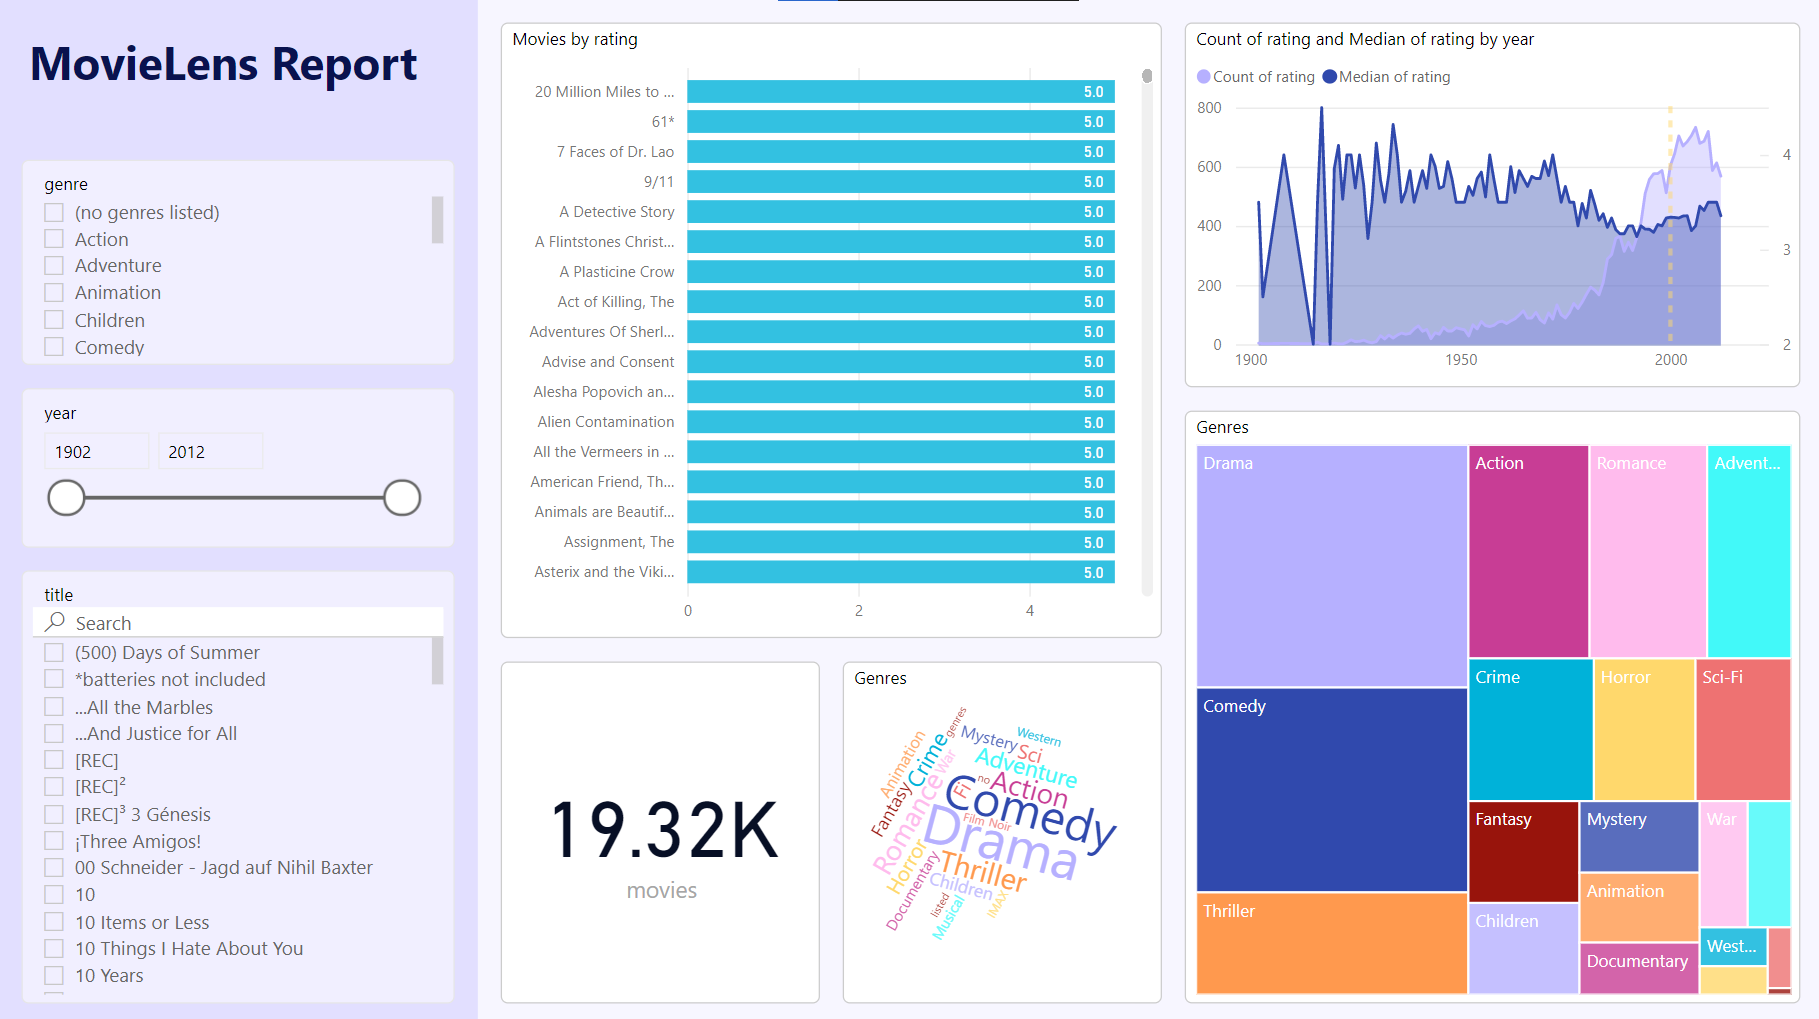

What the dashboard file says about the page in this screenshot:
{"tool":"powerbi","page":{"name":"Page 1","canvas":[1280,720],"ordinal":0},"visuals":[{"type":"shape","box":[0,0,336,720],"z":0},{"type":"treemap","title":"Genres","fields":{"Group":["movies.genre"],"Values":["movies.ratingId"]},"box":[832,288,432,416],"z":1000},{"type":"clusteredBarChart","title":"Movies by rating","fields":{"Category":["movies.title"],"Y":["movies.rating"]},"box":[352,16,464,432],"z":2000},{"type":"areaChart","fields":{"Category":["movies.year"],"Y2":["movies.rating"],"Y":["movies.rating"]},"box":[832,16,432,256],"z":3000},{"type":"slicer","fields":{"Values":["movies.genre"]},"box":[16,112,304,144],"z":5000},{"type":"slicer","fields":{"Values":["movies.year"]},"box":[16,272,304,112],"z":6000},{"type":"textbox","box":[16,16,304,64],"z":7000},{"type":"slicer","fields":{"Values":["movies.title"]},"box":[16,400,304,304],"z":8000},{"type":"WordCloud1447959067750","title":"Genres","fields":{"Category":["movies.genre"],"Values":["movies.movieId"]},"box":[592,464,224,240],"z":8001},{"type":"card","fields":{"Values":["movies.movieId"]},"box":[352,464,224,240],"z":8002}]}

Visuals, with their boxes in screenshot pixels (x1, y1, x2, y2), scaled from the page's 1280x720 canvas onto the 1819x1019 screenshot:
shape: <region>0, 0, 477, 1018</region>
"Genres" treemap: <region>1182, 408, 1796, 996</region>
"Movies by rating" clusteredBarChart: <region>500, 23, 1160, 634</region>
areaChart - movies.year x movies.rating: <region>1182, 23, 1796, 385</region>
slicer - movies.genre: <region>23, 159, 455, 362</region>
slicer - movies.year: <region>23, 385, 455, 543</region>
textbox: <region>23, 23, 455, 113</region>
slicer - movies.title: <region>23, 566, 455, 996</region>
"Genres" WordCloud1447959067750: <region>841, 657, 1160, 996</region>
card - movies.movieId: <region>500, 657, 819, 996</region>
